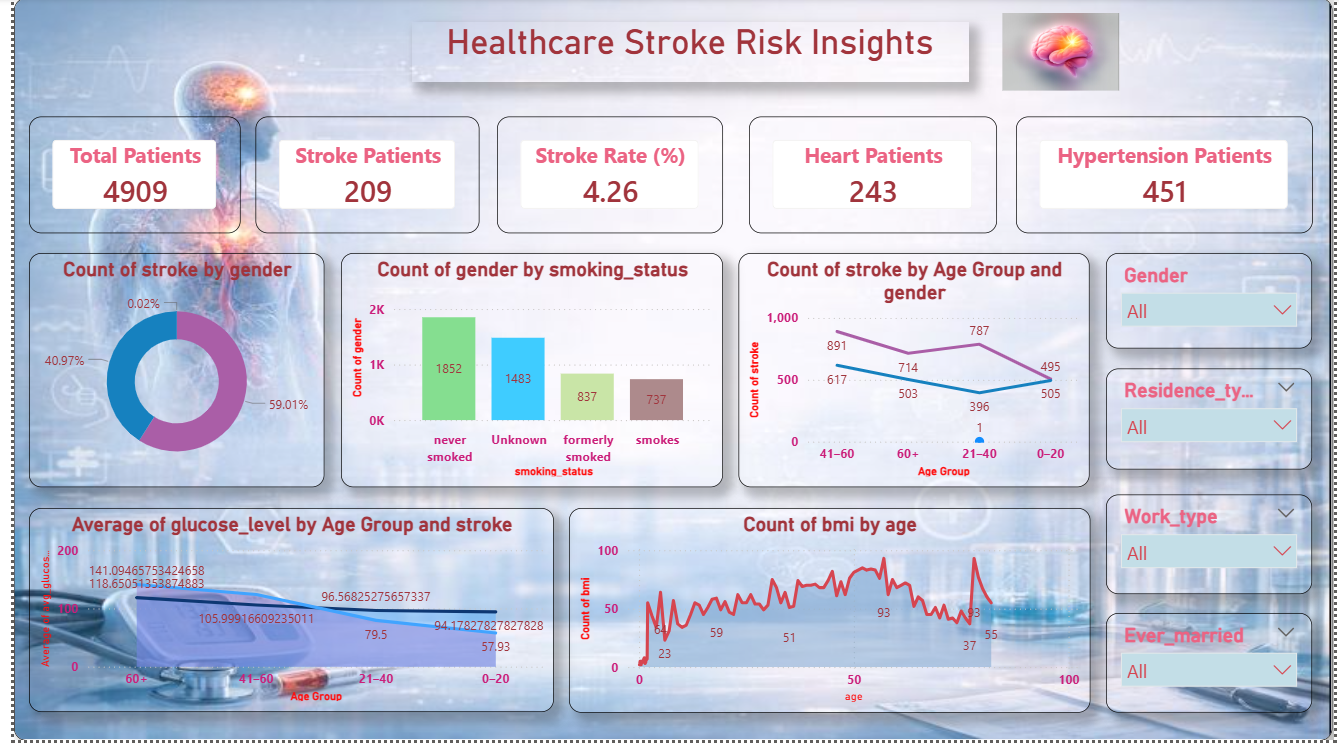

What the dashboard file says about the page in this screenshot:
{"tool":"powerbi","page":{"name":"Page 1","canvas":[1280,720],"ordinal":0},"visuals":[{"type":"image","box":[0,0,1279.5,720.8],"z":0},{"type":"cardVisual","fields":{"Data":["healthcare-dataset-stroke-data.Total Patients"]},"box":[15.1,115.3,204.1,113.4],"z":1000},{"type":"shape","title":"Healthcare  Stroke Risk Insights","box":[385.5,22.7,540.5,58.6],"z":2000},{"type":"cardVisual","fields":{"Data":["healthcare-dataset-stroke-data.Stroke Patients"]},"box":[234.3,115.3,217.3,113.4],"z":3000},{"type":"image","box":[926,15.1,179.5,75.6],"z":4000},{"type":"cardVisual","fields":{"Data":["healthcare-dataset-stroke-data.Stroke Rate (%)"]},"box":[469.4,115.1,219.6,113.6],"z":5000},{"type":"cardVisual","fields":{"Data":["healthcare-dataset-stroke-data.Heart Disease Patients"]},"box":[713.2,115.1,240.8,113.6],"z":6000},{"type":"slicer","fields":{"Values":["healthcare-dataset-stroke-data.gender"]},"box":[1060.2,247.6,200.3,92.6],"z":7000},{"type":"slicer","fields":{"Values":["healthcare-dataset-stroke-data.Residence_type"]},"box":[1060.2,359.1,200.3,98.3],"z":8000},{"type":"slicer","fields":{"Values":["healthcare-dataset-stroke-data.work_type"]},"box":[1060,481.7,200,96.7],"z":9000},{"type":"cardVisual","fields":{"Data":["healthcare-dataset-stroke-data.Hypertension Patients"]},"box":[972.1,115.1,287.7,113.6],"z":10000},{"type":"donutChart","fields":{"Category":["healthcare-dataset-stroke-data.gender"],"Y":["CountNonNull(healthcare-dataset-stroke-data.stroke)"]},"box":[15.1,246.8,286.2,227.1],"z":11000},{"type":"columnChart","fields":{"Category":["healthcare-dataset-stroke-data.smoking_status"],"Y":["CountNonNull(healthcare-dataset-stroke-data.gender)"]},"box":[318,246.8,371,227.1],"z":12000},{"type":"lineChart","fields":{"Category":["healthcare-dataset-stroke-data.Age Group"],"Y":["CountNonNull(healthcare-dataset-stroke-data.stroke)"],"Series":["healthcare-dataset-stroke-data.gender"]},"box":[701.1,246.8,327.1,227.1],"z":13000},{"type":"stackedAreaChart","fields":{"Y":["CountNonNull(healthcare-dataset-stroke-data.bmi)"],"Category":["healthcare-dataset-stroke-data.age"]},"box":[539.1,495.1,505.7,198.4],"z":14000},{"type":"areaChart","title":"Average of glucose_level by Age Group and stroke","fields":{"Category":["healthcare-dataset-stroke-data.Age Group"],"Series":["healthcare-dataset-stroke-data.stroke"],"Y":["Avg(healthcare-dataset-stroke-data.avg_glucose_level)"]},"box":[15.1,495.1,508.8,198.4],"z":15000},{"type":"slicer","fields":{"Values":["healthcare-dataset-stroke-data.ever_married"]},"box":[1060,596.7,200,96.7],"z":16000}]}

Visuals, with their boxes in screenshot pixels (x1, y1, x2, y2), scaled from the page's 1280x720 canvas onto the 1339x748 screenshot:
image: x1=0, y1=0, x2=1338, y2=747
cardVisual - healthcare-dataset-stroke-data.Total Patients: x1=16, y1=120, x2=229, y2=238
"Healthcare  Stroke Risk Insights" shape: x1=403, y1=24, x2=969, y2=84
cardVisual - healthcare-dataset-stroke-data.Stroke Patients: x1=245, y1=120, x2=472, y2=238
image: x1=969, y1=16, x2=1156, y2=94
cardVisual - healthcare-dataset-stroke-data.Stroke Rate (%): x1=491, y1=120, x2=721, y2=238
cardVisual - healthcare-dataset-stroke-data.Heart Disease Patients: x1=746, y1=120, x2=998, y2=238
slicer - healthcare-dataset-stroke-data.gender: x1=1109, y1=257, x2=1319, y2=353
slicer - healthcare-dataset-stroke-data.Residence_type: x1=1109, y1=373, x2=1319, y2=475
slicer - healthcare-dataset-stroke-data.work_type: x1=1109, y1=500, x2=1318, y2=601
cardVisual - healthcare-dataset-stroke-data.Hypertension Patients: x1=1017, y1=120, x2=1318, y2=238
donutChart - healthcare-dataset-stroke-data.gender x CountNonNull(healthcare-dataset-stroke-data.stroke): x1=16, y1=256, x2=315, y2=492
columnChart - healthcare-dataset-stroke-data.smoking_status x CountNonNull(healthcare-dataset-stroke-data.gender): x1=333, y1=256, x2=721, y2=492
lineChart - healthcare-dataset-stroke-data.Age Group x CountNonNull(healthcare-dataset-stroke-data.stroke): x1=733, y1=256, x2=1076, y2=492
stackedAreaChart - CountNonNull(healthcare-dataset-stroke-data.bmi) x healthcare-dataset-stroke-data.age: x1=564, y1=514, x2=1093, y2=720
"Average of glucose_level by Age Group and stroke" areaChart: x1=16, y1=514, x2=548, y2=720
slicer - healthcare-dataset-stroke-data.ever_married: x1=1109, y1=620, x2=1318, y2=720
